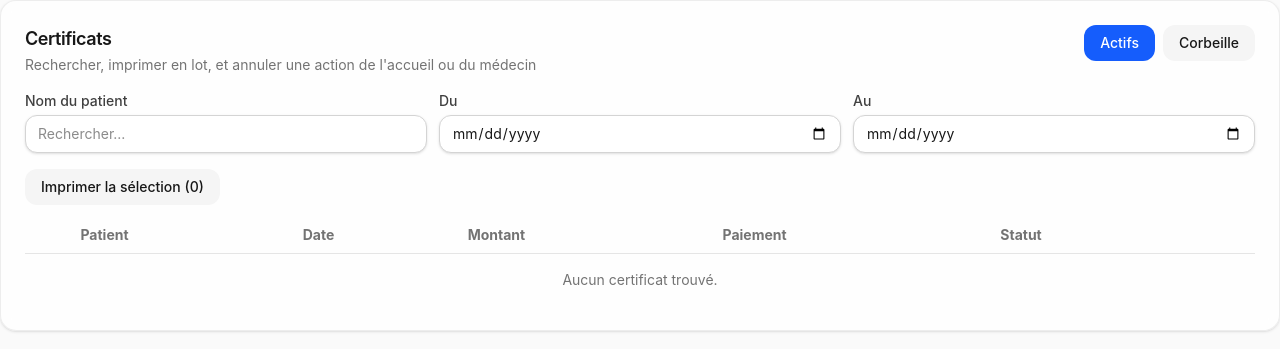
CertificatesPage › shows pagination controls in the trash view and fetches the next page
Step 1. Click the button "Corbeille" → (1209,43), box [1163, 25, 1255, 61]
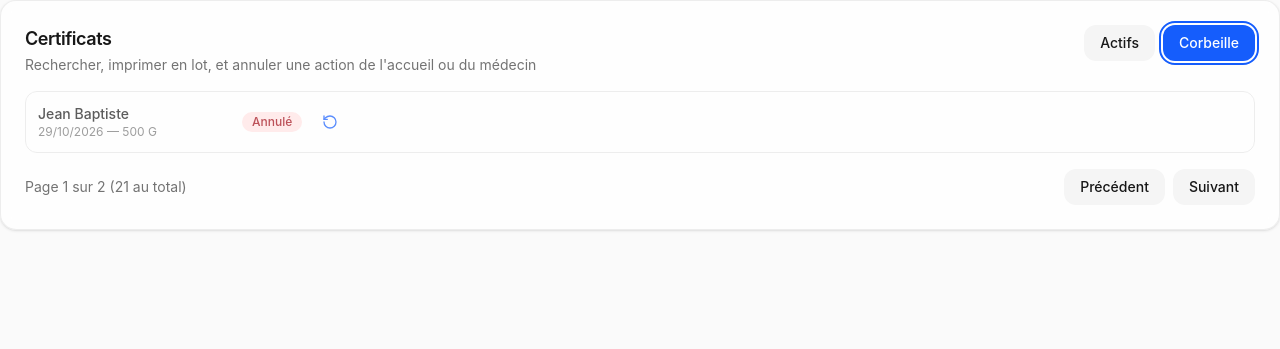
Check: the text "Page 1 sur 2 (21 au total)" is shown, box [25, 177, 187, 197]
Step 2. Click the button "Suivant" → (1214,187), box [1173, 169, 1255, 205]
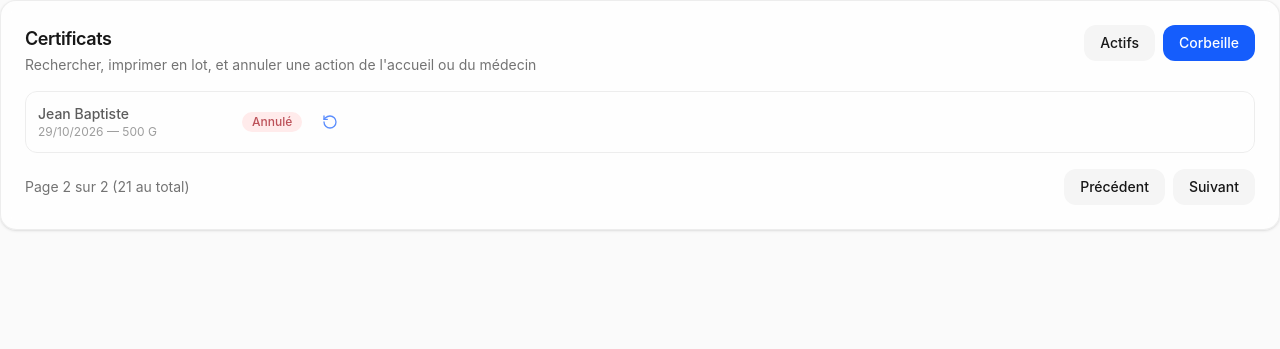
Check: the text "Page 2 sur 2 (21 au total)" is shown, box [25, 177, 190, 197]
